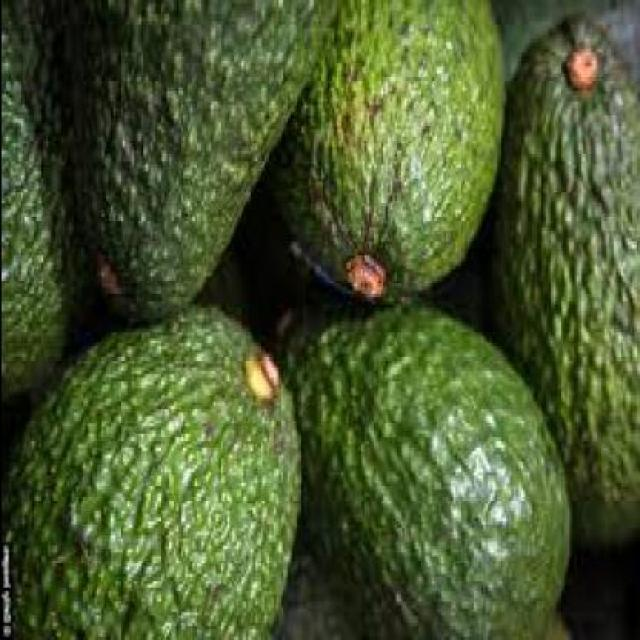BIODEGRADABLE: (6, 308, 298, 640), (286, 315, 572, 640), (48, 0, 320, 329), (269, 0, 506, 303), (508, 18, 640, 552), (0, 0, 69, 394)
